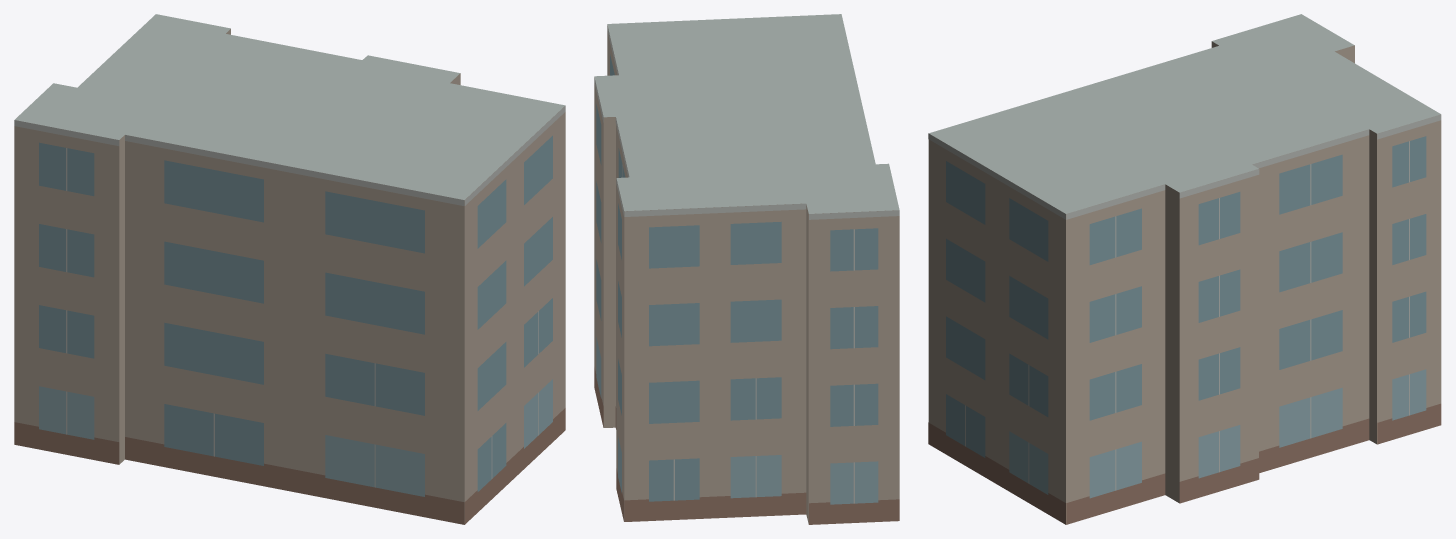
The model's file is survey-upis-32811984.glb.
The picture shows the model from 3 angles, left to right: view 1: azimuth 30°, elevation 25°; view 2: azimuth 150°, elevation 25°; view 3: azimuth 270°, elevation 25°; orthographic projection. The views are drawn at different scales.
Parts seen in each view (by area): view 1: survey-upis-32811984.tmp; view 2: survey-upis-32811984.tmp; view 3: survey-upis-32811984.tmp.
Part boxes in pixels (<box>): survey-upis-32811984.tmp: <box>14,14,565,524</box>; survey-upis-32811984.tmp: <box>594,14,899,524</box>; survey-upis-32811984.tmp: <box>928,14,1441,524</box>.
Size of the model in its own units: 17.81 by 12.9 by 19.3.
